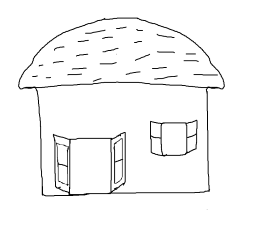door: (49, 128, 133, 200)
open_window: (149, 119, 198, 156)
roof: (17, 16, 224, 90)
wall: (34, 77, 211, 200)
